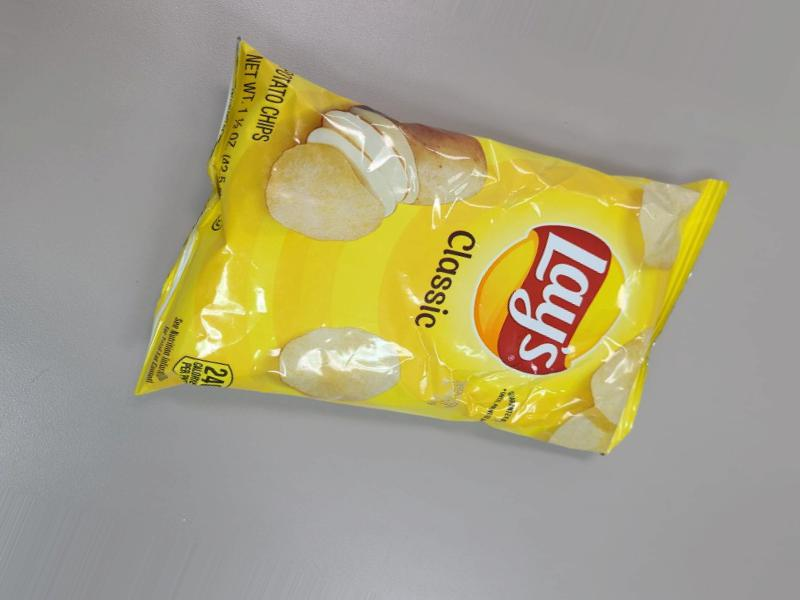lays: (183, 3, 753, 456)
